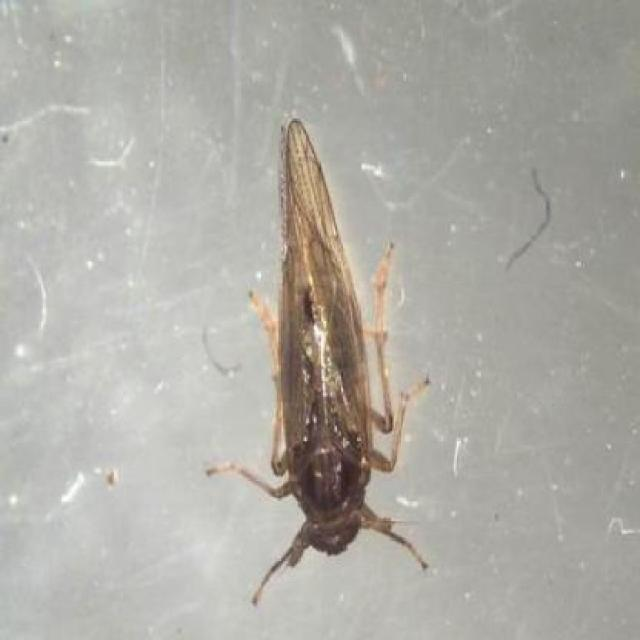brown-planthopper: (235, 116, 431, 586)
